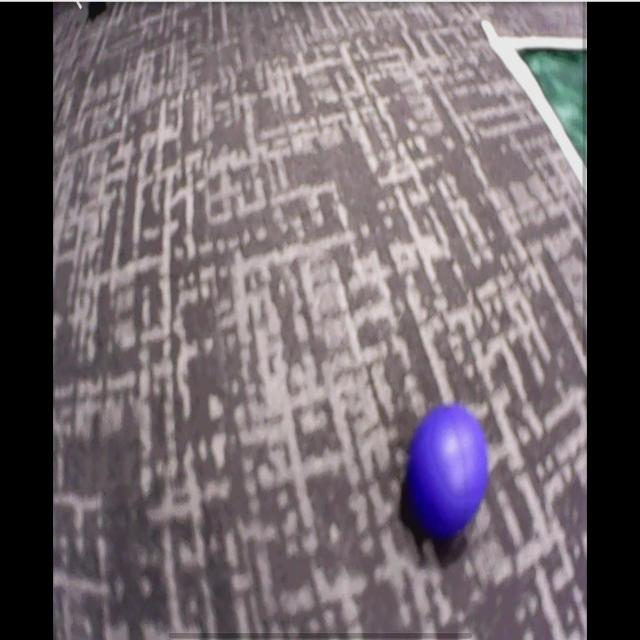ball: (409, 405, 487, 539)
